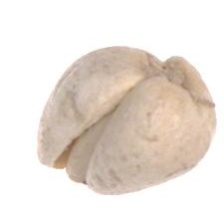L3: (41, 133, 115, 195)
L4: (36, 45, 218, 195)
